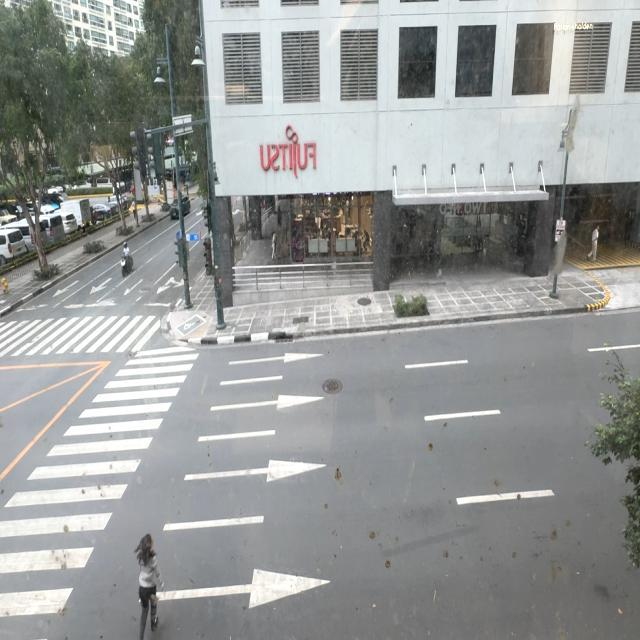jaywalking: (132, 509, 168, 640)
